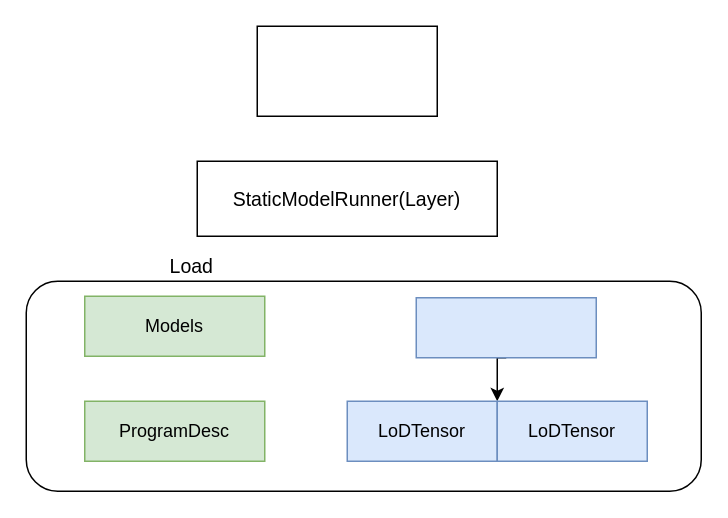
Some shapes in this 728 by 518 pixel diagram are drawn without their labels. The shapes that lost their labels are listed below. From the top down, each one's centre as x and y in pixels, then its label:
pixel 346 70: 动态图
pixel 505 327: Parameters
